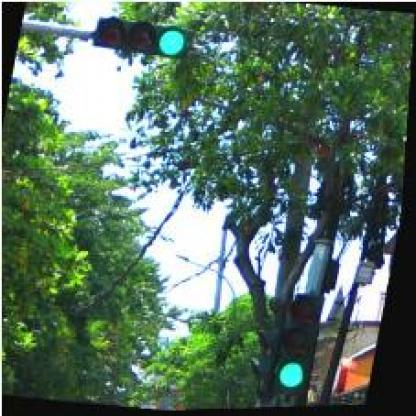green: (275, 292, 330, 397), (90, 14, 192, 58)
